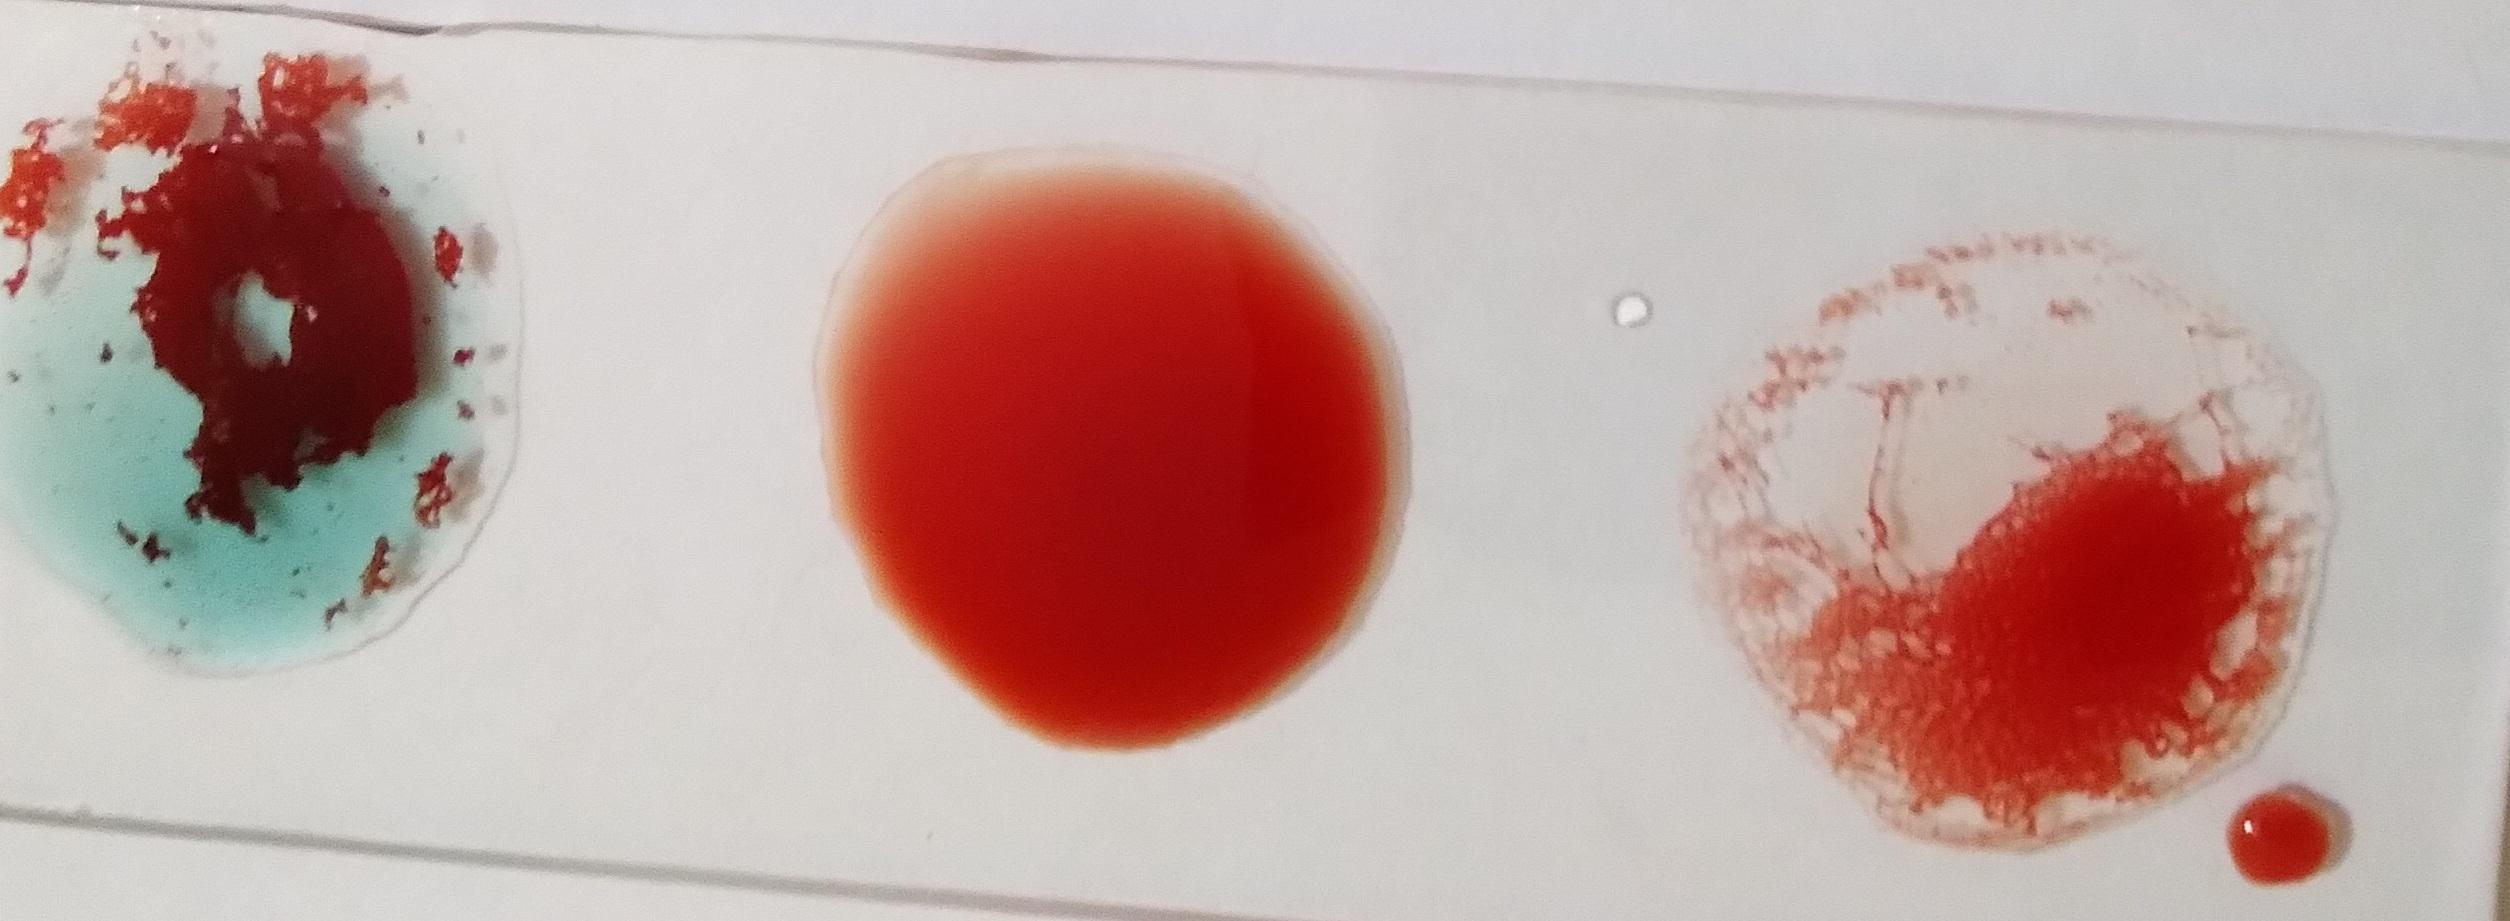A: (11, 40, 517, 679)
D: (1753, 232, 2291, 820)
